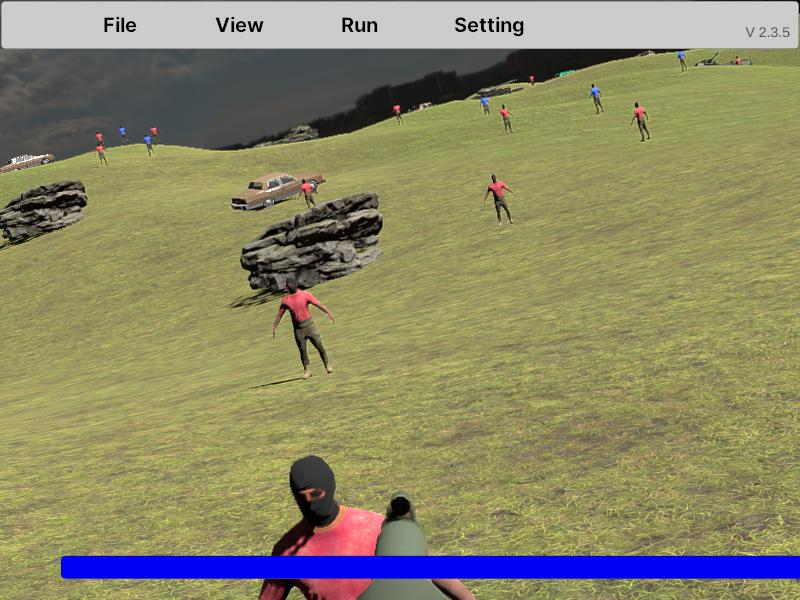Human: (272, 277, 335, 380), (483, 174, 517, 227), (631, 102, 651, 142), (299, 179, 319, 214)
car: (231, 172, 322, 212), (1, 153, 54, 177)
